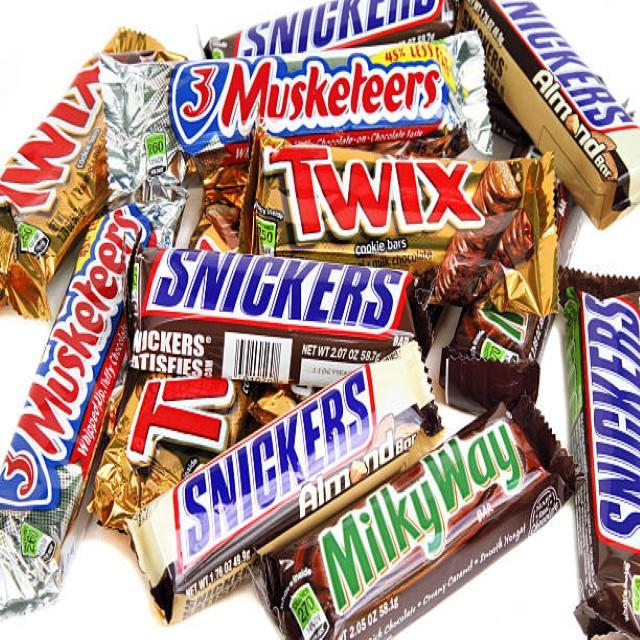snickers_chocolate: (110, 335, 460, 623), (137, 245, 430, 373), (475, 10, 640, 215), (558, 277, 640, 620), (202, 0, 460, 70)
